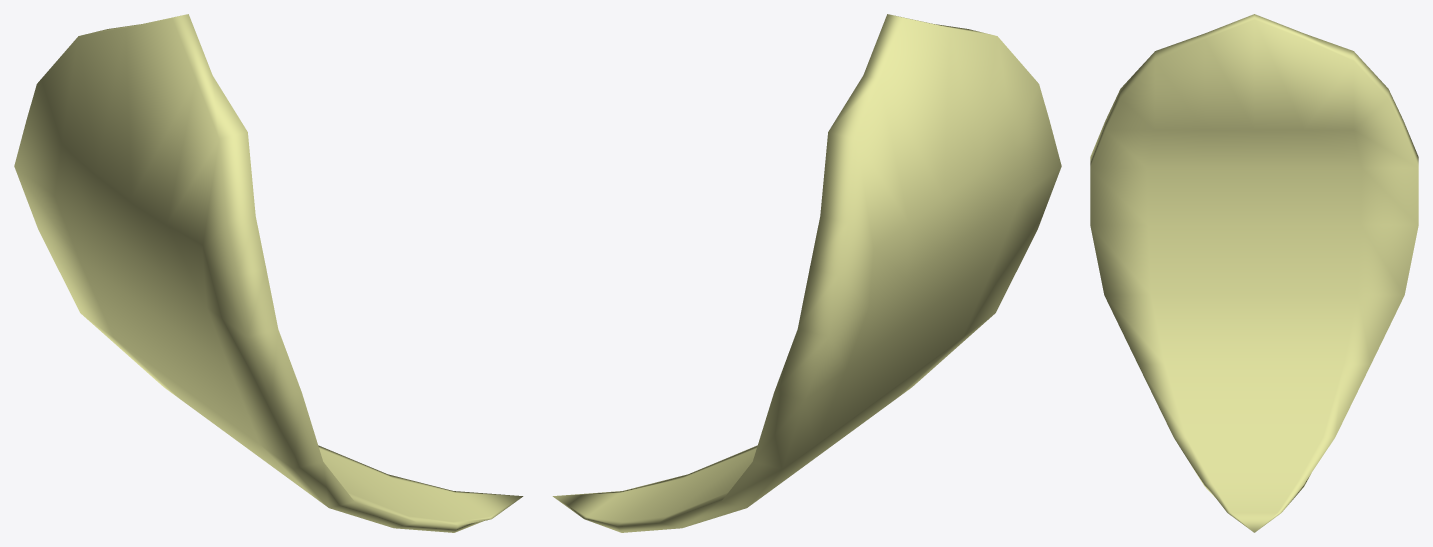
Rendered from jasminePetal.fbx.
The picture shows the model from 3 angles, left to right: view 1: azimuth 30°, elevation 25°; view 2: azimuth 150°, elevation 25°; view 3: azimuth 270°, elevation 25°; orthographic projection. The views are drawn at different scales.
Parts seen in each view (by area): view 1: Cube; view 2: Cube; view 3: Cube.
Part boxes in pixels (box(x1,y1,x2,y2)): Cube: box(14, 14, 523, 532); Cube: box(552, 14, 1061, 532); Cube: box(1090, 14, 1418, 532).
Size of the model in its own units: 215 by 295 by 221.
